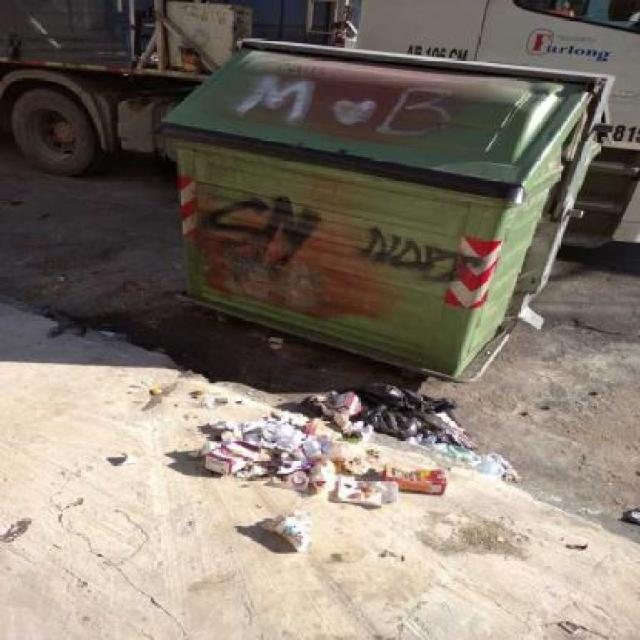garbage: (163, 363, 593, 527)
